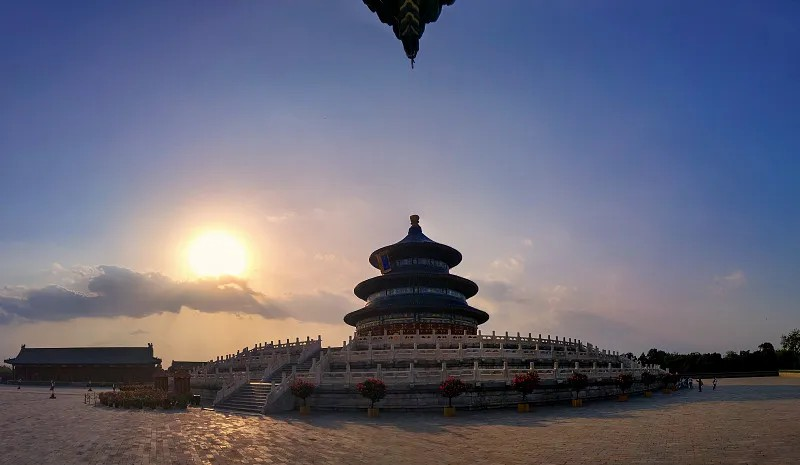Heaven: (344, 213, 488, 335)
